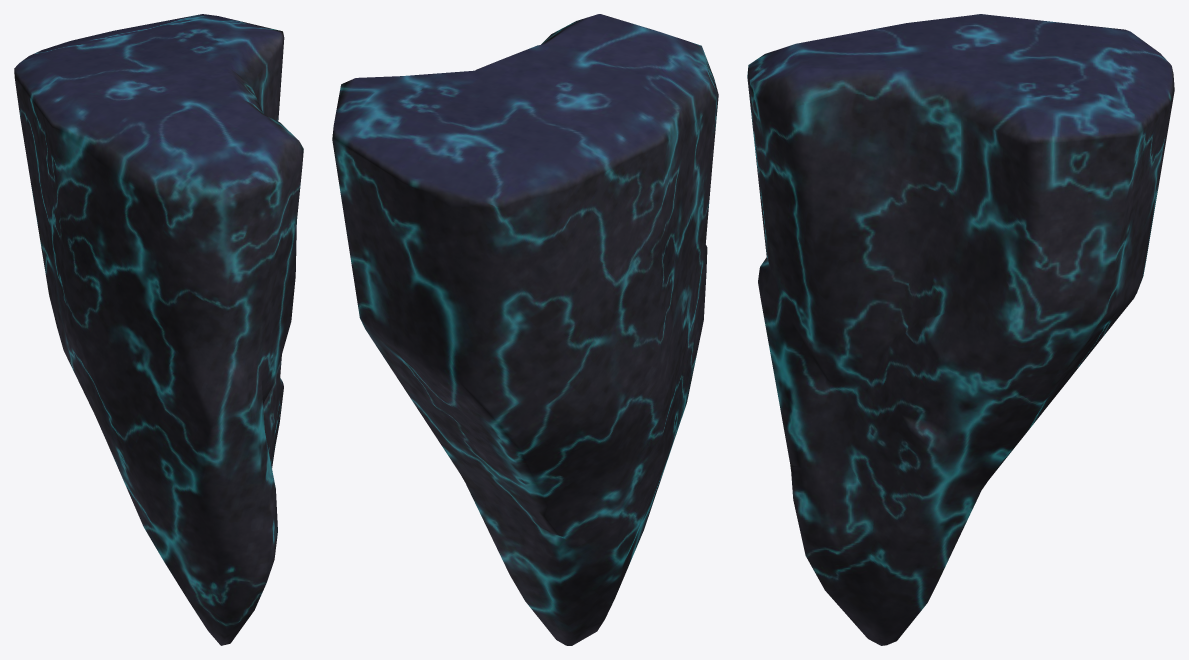
Rendered from caos_stl_cliffrock_01a_v35.glb.
3 views of the same model, side by side, from view 1: azimuth 30°, elevation 25°; view 2: azimuth 150°, elevation 25°; view 3: azimuth 270°, elevation 25° (orthographic). The views are drawn at different scales.
Parts seen in each view (by area): view 1: caos_stl_cliffrock_01a; view 2: caos_stl_cliffrock_01a; view 3: caos_stl_cliffrock_01a.
Part boxes in pixels (x1=…): caos_stl_cliffrock_01a: x1=14, y1=14, x2=303, y2=645; caos_stl_cliffrock_01a: x1=332, y1=14, x2=718, y2=645; caos_stl_cliffrock_01a: x1=747, y1=14, x2=1174, y2=645.
Bounding box in the file's own units: 5.21 × 10.27 × 6.8.
Materials: 1 (1 with a texture image).
